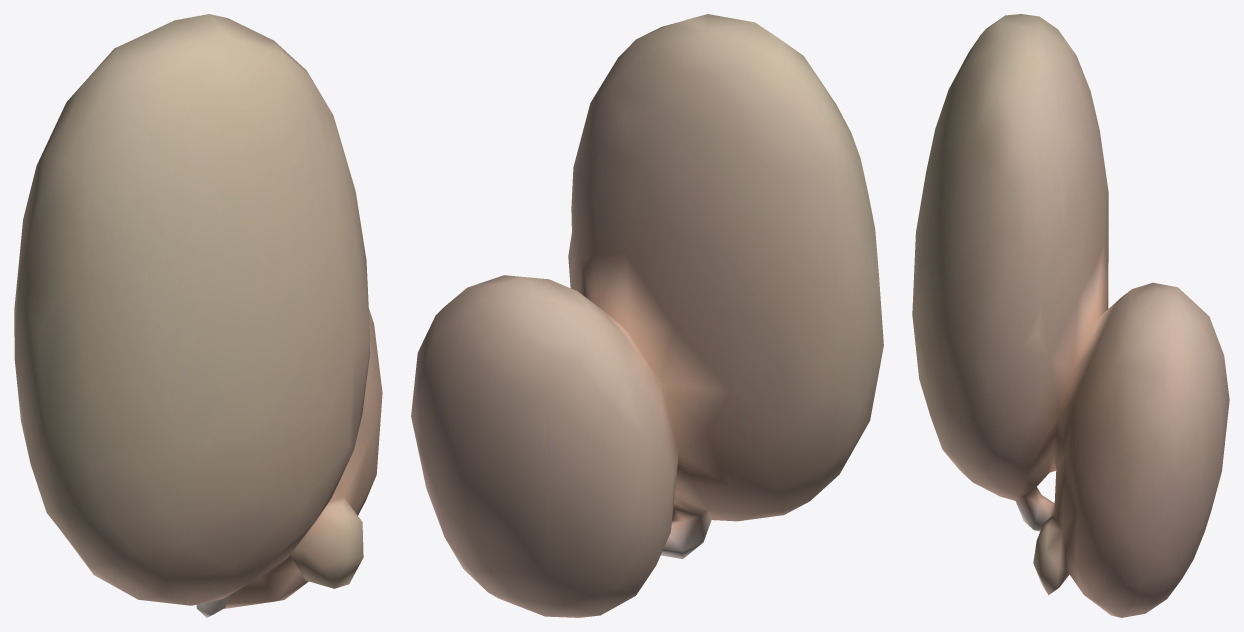
The model's file is yeast.glb.
The picture shows the model from 3 angles, left to right: view 1: azimuth 30°, elevation 25°; view 2: azimuth 150°, elevation 25°; view 3: azimuth 270°, elevation 25°; orthographic projection. The views are drawn at different scales.
Parts seen in each view (by area): view 1: yeast; view 2: yeast; view 3: yeast.
Part boxes in pixels (x1=…): yeast: x1=14, y1=14, x2=382, y2=617; yeast: x1=411, y1=14, x2=883, y2=617; yeast: x1=912, y1=14, x2=1229, y2=617.
Size of the model in its own units: 1.47 by 2.16 by 1.17.
1 material, 1 textured.
